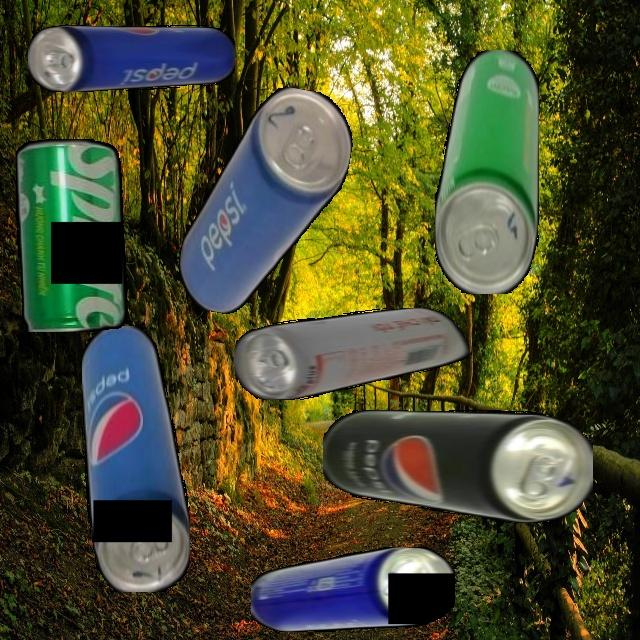debris: (172, 74, 360, 330), (322, 410, 593, 523), (81, 325, 190, 592), (434, 49, 539, 294), (234, 307, 470, 400), (16, 138, 127, 332), (250, 547, 455, 632), (28, 24, 235, 92)
